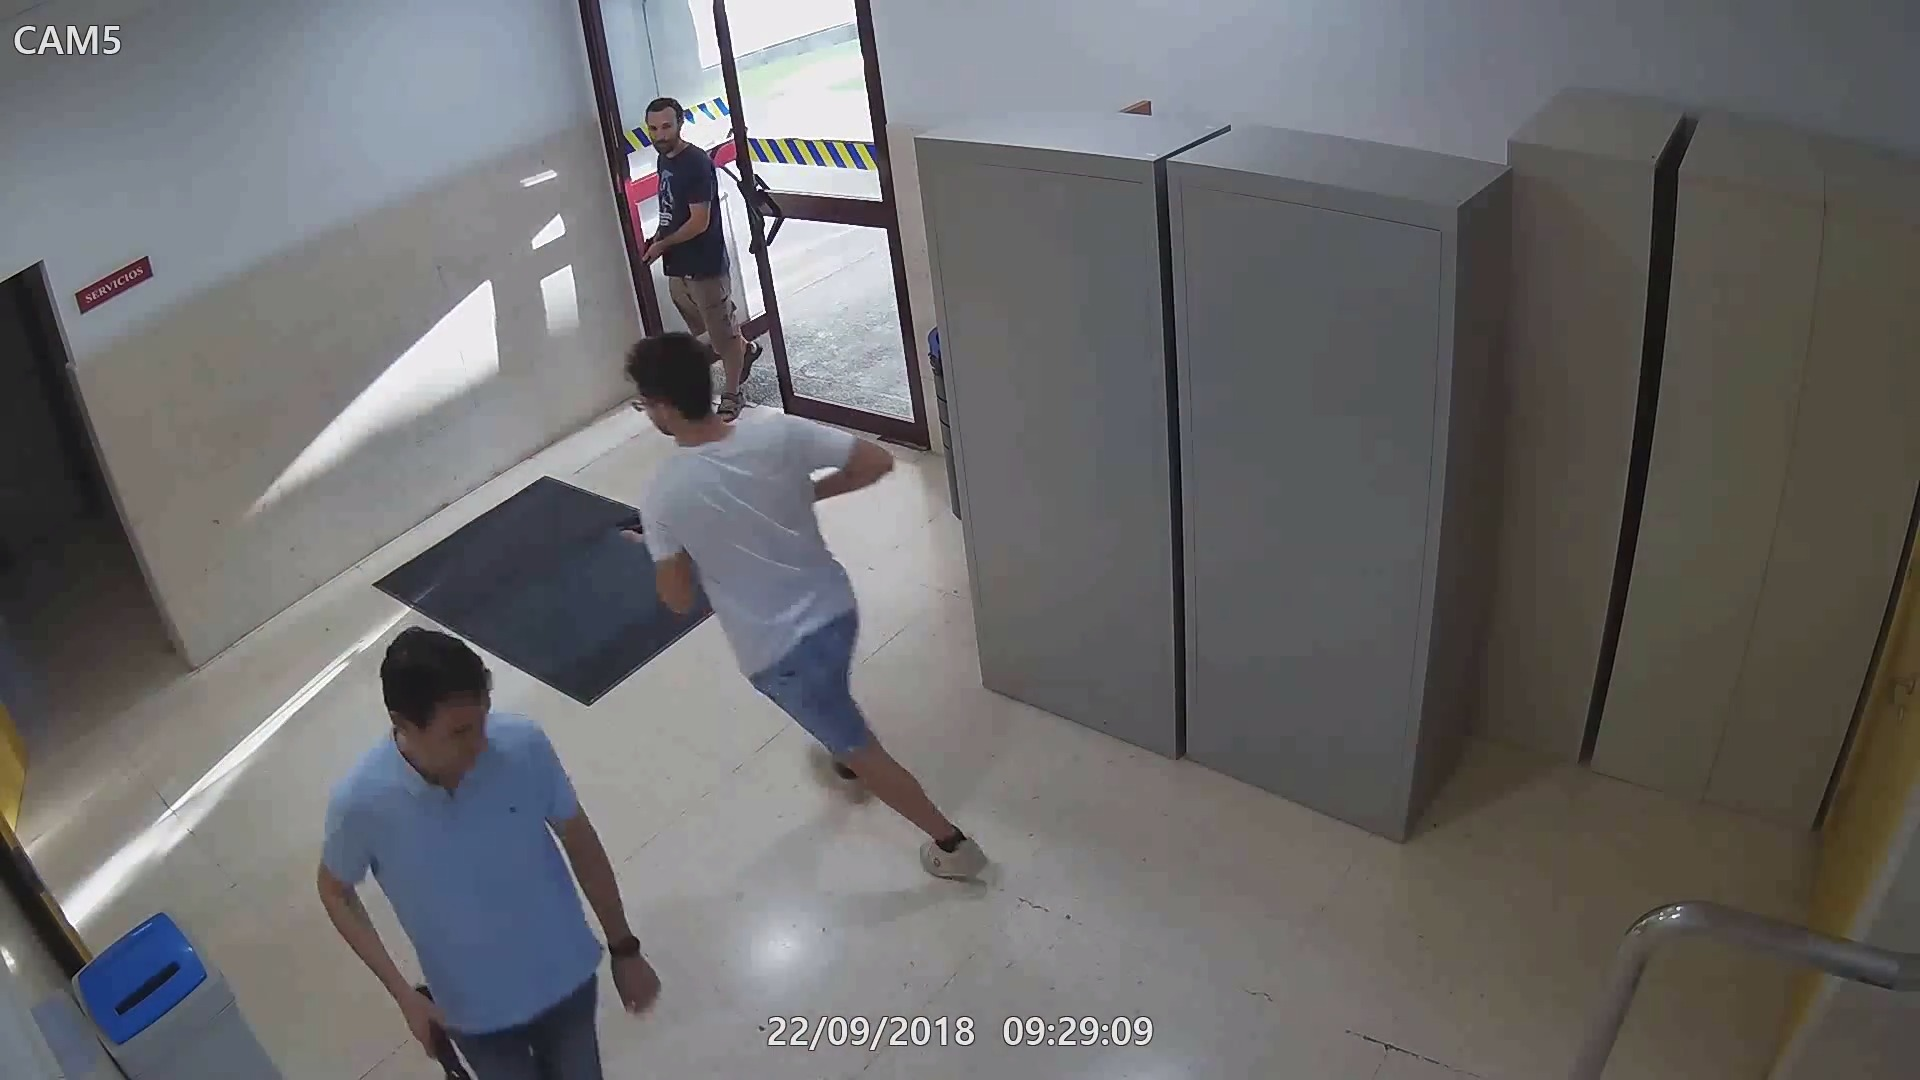Handgun: (633, 237, 666, 272)
